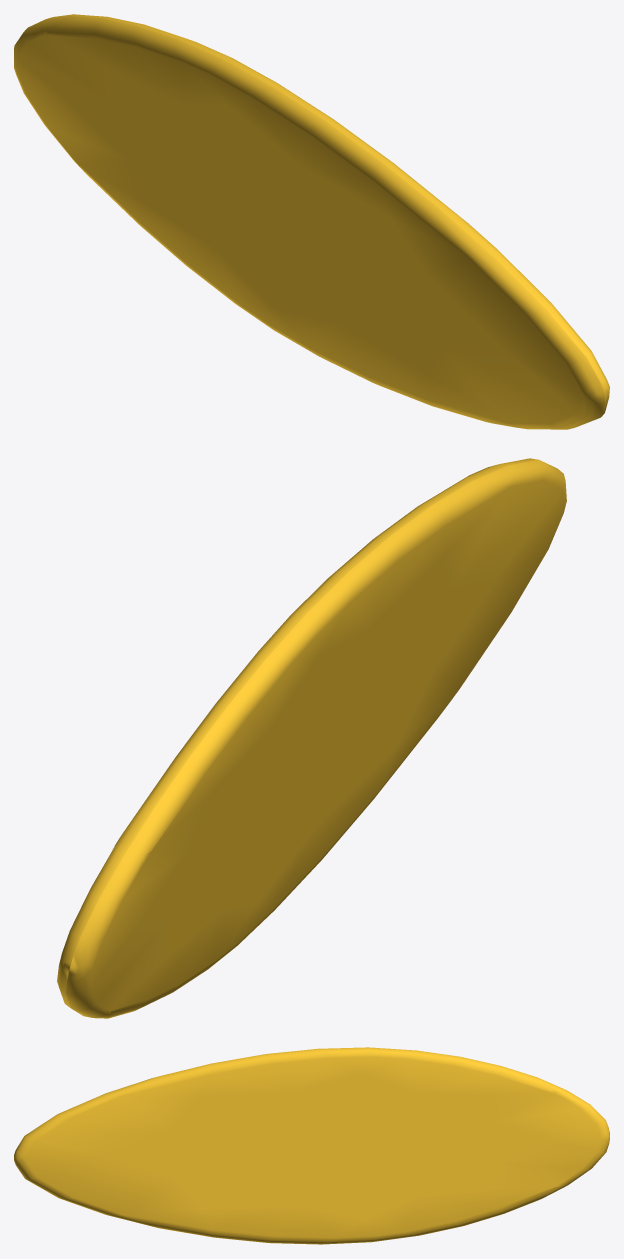
Rendered from fallLeaf_6.glb.
The picture shows the model from 3 angles, top to bottom: view 1: azimuth 30°, elevation 25°; view 2: azimuth 150°, elevation 25°; view 3: azimuth 270°, elevation 25°; orthographic projection. The views are drawn at different scales.
Visible parts, largest first — view 1: Leaf_YellowGreen_Long.169; view 2: Leaf_YellowGreen_Long.169; view 3: Leaf_YellowGreen_Long.169.
Boxes of the visible parts, x1,y1,x2,y2 form: Leaf_YellowGreen_Long.169: [14, 14, 609, 429]; Leaf_YellowGreen_Long.169: [57, 458, 566, 1018]; Leaf_YellowGreen_Long.169: [14, 1047, 609, 1244].
Size of the model in its own units: 0.3377 by 0.7394 by 2.27.
